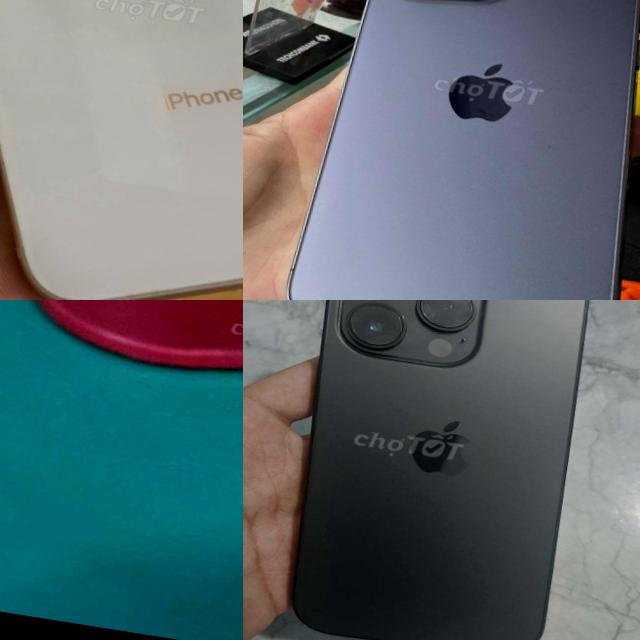gen_14: (254, 300, 625, 640), (273, 0, 640, 300)
gen_7_8: (0, 0, 243, 300)
